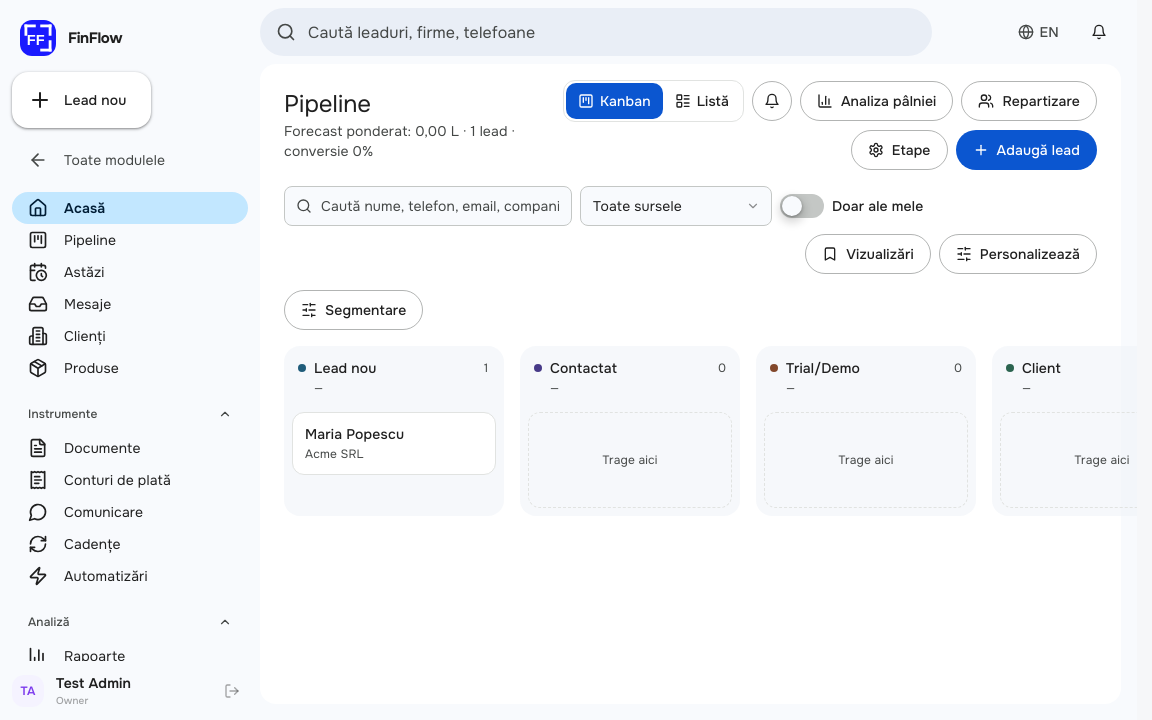
Scenario: CRM (Faza 1) — LeadDetailSheet › un click pe cartonaș deschide fișa leadului cu datele lui
Click the button with aria-label "Deschide lead Maria Popescu": (394, 444) [293,413,495,474]
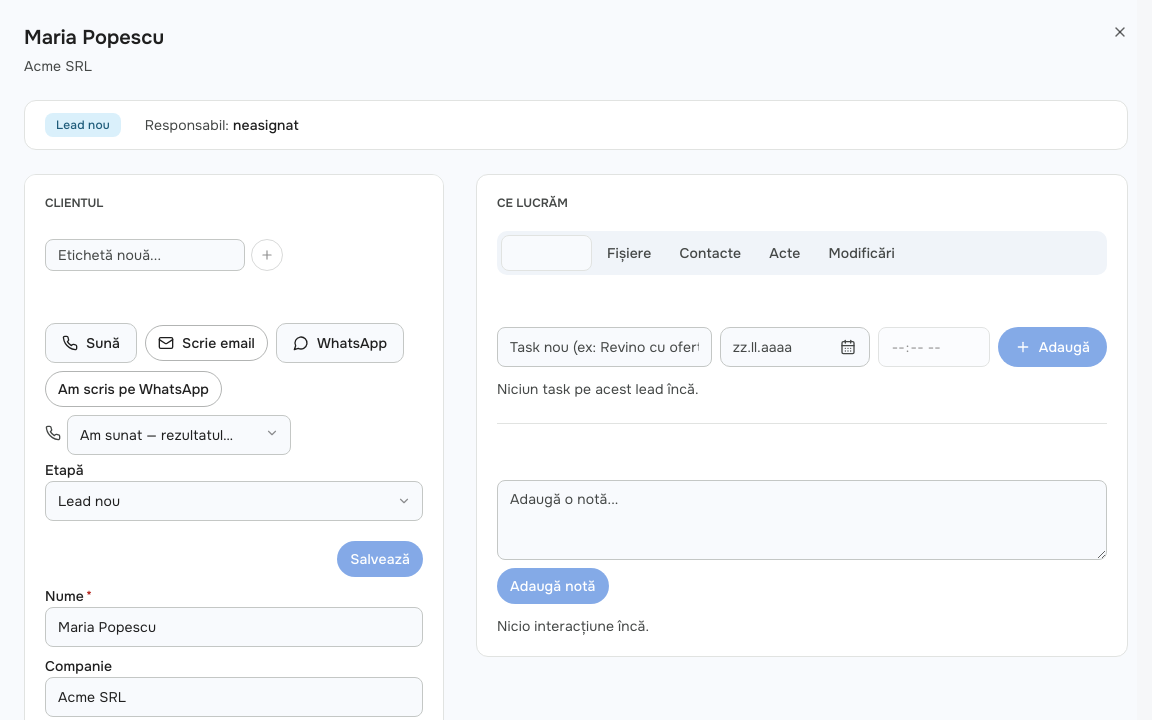
Expected: the text "Acme SRL" is shown, [24,57,92,75]
Expected: the dropdown labelled "Etapă" shows "Lead nou", [45,481,423,521]
